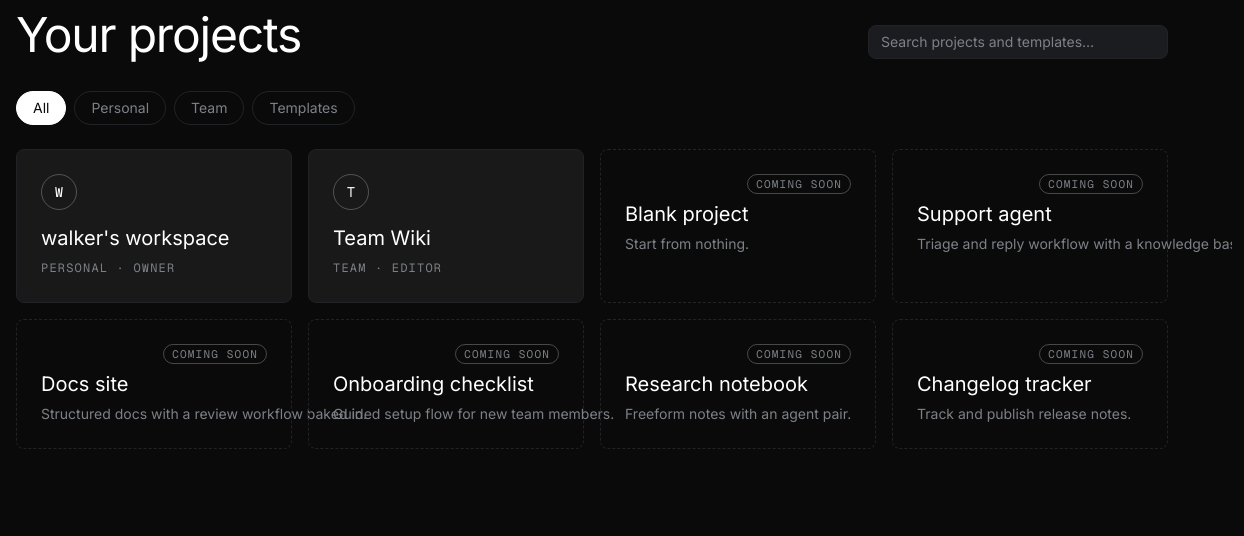
Test: the projects home › offers starter templates, clearly marked as not built yet
Expected: the 1st text "Coming soon" is shown, 747,174 -> 851,194
What coordinates should you click on to do the following:
click the button "Coming soon Blank project Start from nothing."
I would click on:
 (738, 226)
Its box is 600,149 -> 876,303.
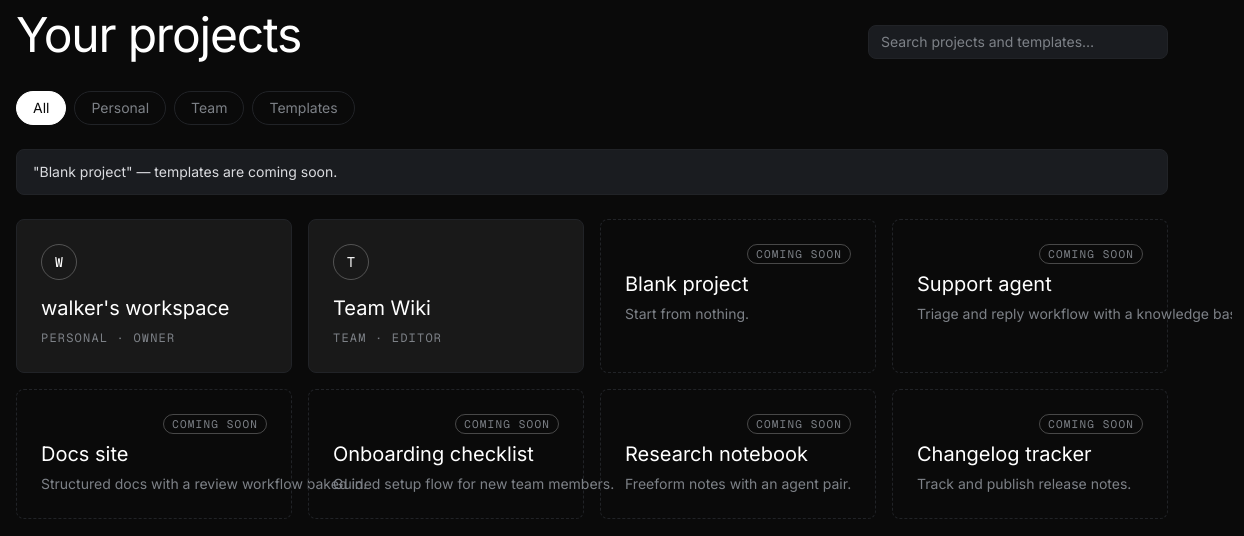
Result: the text "\"Blank project\" — templates are coming soon." is shown at 16,149 -> 1168,195
